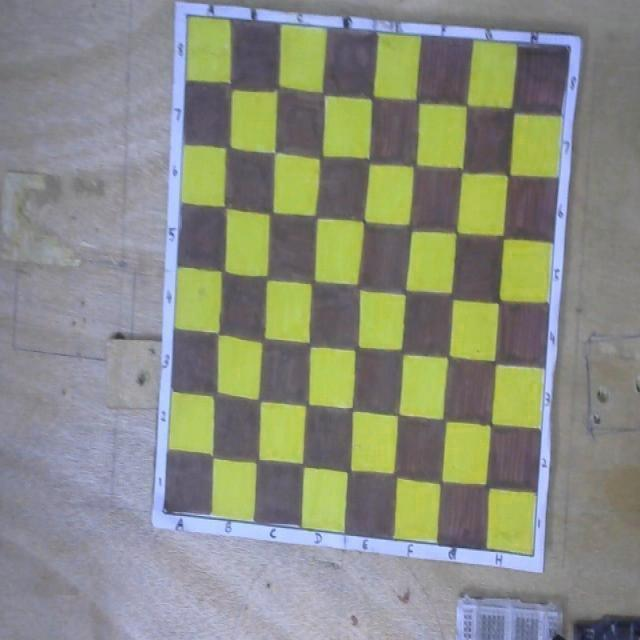chess-table-corners: (568, 44, 572, 52), (532, 553, 536, 558), (162, 510, 166, 514), (185, 14, 189, 18)
